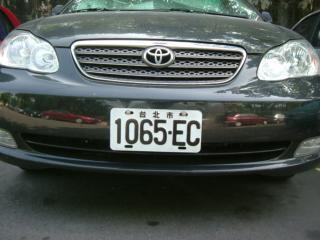plate: (108, 105, 205, 156)
